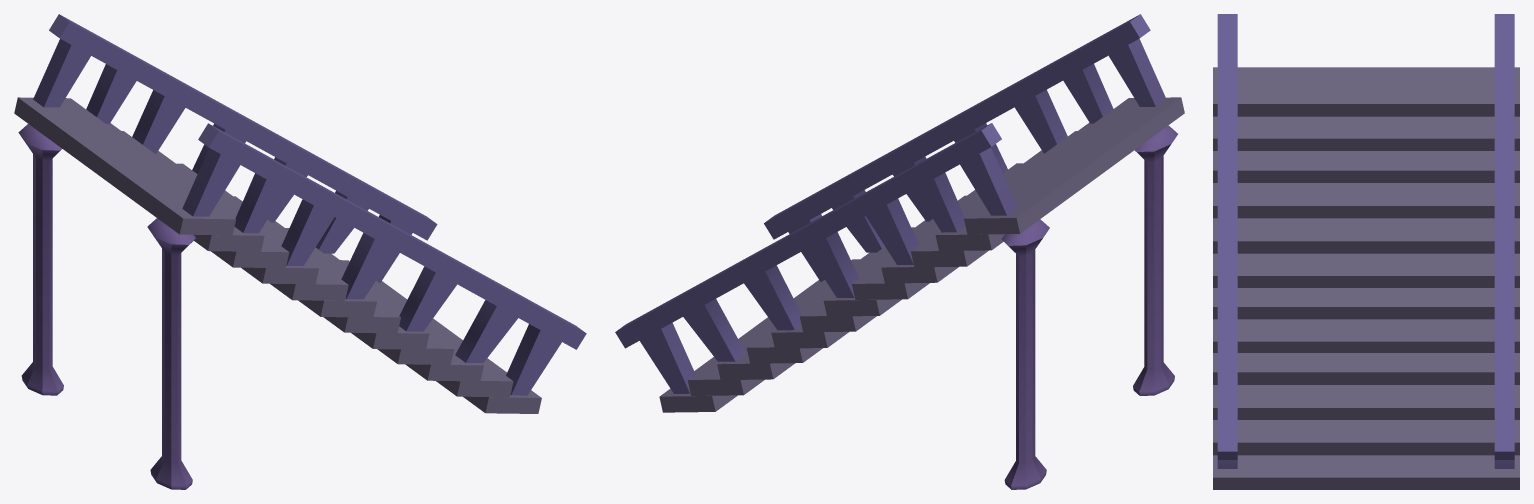
File: frontStandStair.fbx
3 views of the same model, side by side, from view 1: azimuth 30°, elevation 25°; view 2: azimuth 150°, elevation 25°; view 3: azimuth 270°, elevation 25° (orthographic). The views are drawn at different scales.
Visible parts, largest first — view 1: handle_L, handle_R, stairs12, Pillar_L, Pillar_R, stairs2, stairs8, stairs3, stairs11, stairs9, stairs10, stairs5 (+4 smaller); view 2: handle_R, handle_L, stairs12, Pillar_R, Pillar_L, stairs2, stairs8, stairs3, stairs11, stairs9, stairs0, stairs10 (+4 smaller); view 3: stairs12, stairs0, stairs8, stairs2, stairs9, handle_L, handle_R, stairs3, stairs7, stairs11, stairs5, stairs10 (+2 smaller).
Boxes of the visible parts, <box> form: handle_L: <box>182,123,586,395</box>; handle_R: <box>33,14,437,283</box>; stairs12: <box>14,97,235,235</box>; Pillar_L: <box>147,218,195,489</box>; Pillar_R: <box>18,124,63,395</box>; stairs2: <box>340,260,513,397</box>; stairs8: <box>176,163,348,300</box>; stairs3: <box>324,253,483,381</box>; stairs11: <box>106,123,264,251</box>; stairs9: <box>156,151,318,284</box>; stairs10: <box>122,131,289,268</box>; stairs5: <box>272,221,429,349</box>; handle_R: <box>615,123,1017,393</box>; handle_L: <box>764,14,1166,281</box>; stairs12: <box>964,97,1184,234</box>; Pillar_R: <box>1001,219,1049,489</box>; Pillar_L: <box>1133,125,1177,395</box>; stairs2: <box>687,259,859,395</box>; stairs8: <box>852,163,1022,299</box>; stairs3: <box>717,252,875,380</box>; stairs11: <box>935,122,1092,250</box>; stairs9: <box>881,150,1043,283</box>; stairs0: <box>659,280,820,412</box>; stairs10: <box>911,131,1077,267</box>; stairs12: <box>1213,67,1519,116</box>; stairs0: <box>1213,455,1519,489</box>; stairs8: <box>1213,218,1519,253</box>; stairs2: <box>1213,420,1519,455</box>; stairs9: <box>1213,183,1519,218</box>; handle_L: <box>1217,14,1237,468</box>; handle_R: <box>1494,14,1514,468</box>; stairs3: <box>1213,385,1519,419</box>; stairs7: <box>1213,253,1519,287</box>; stairs11: <box>1213,116,1519,150</box>; stairs5: <box>1213,319,1519,352</box>; stairs10: <box>1213,151,1519,182</box>.
Bounding box in the file's own units: 947 × 780 × 653.
